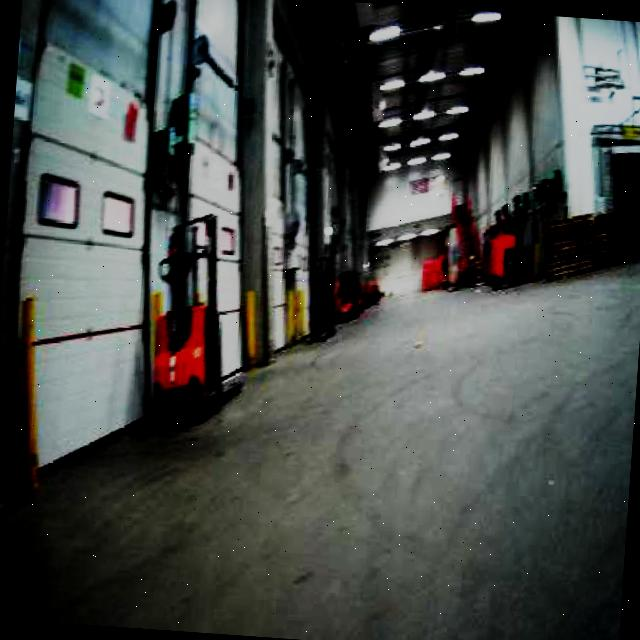ground: (0, 203, 640, 640)
pallet: (543, 200, 639, 286)
